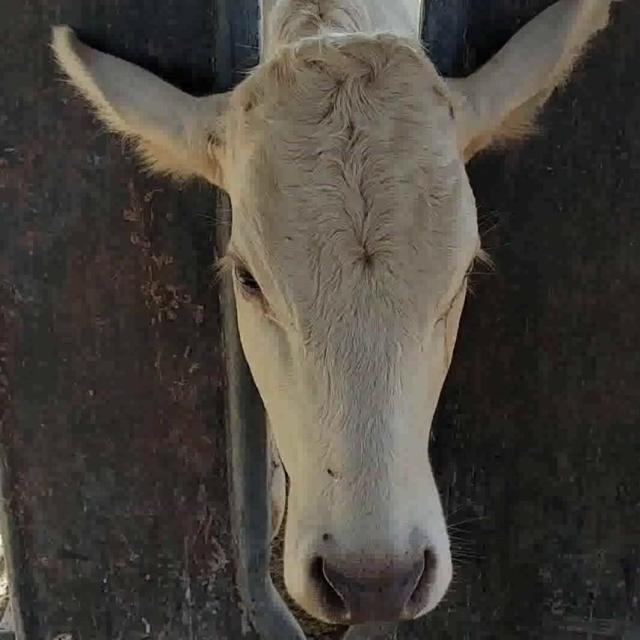cowFace: (226, 38, 483, 626)
